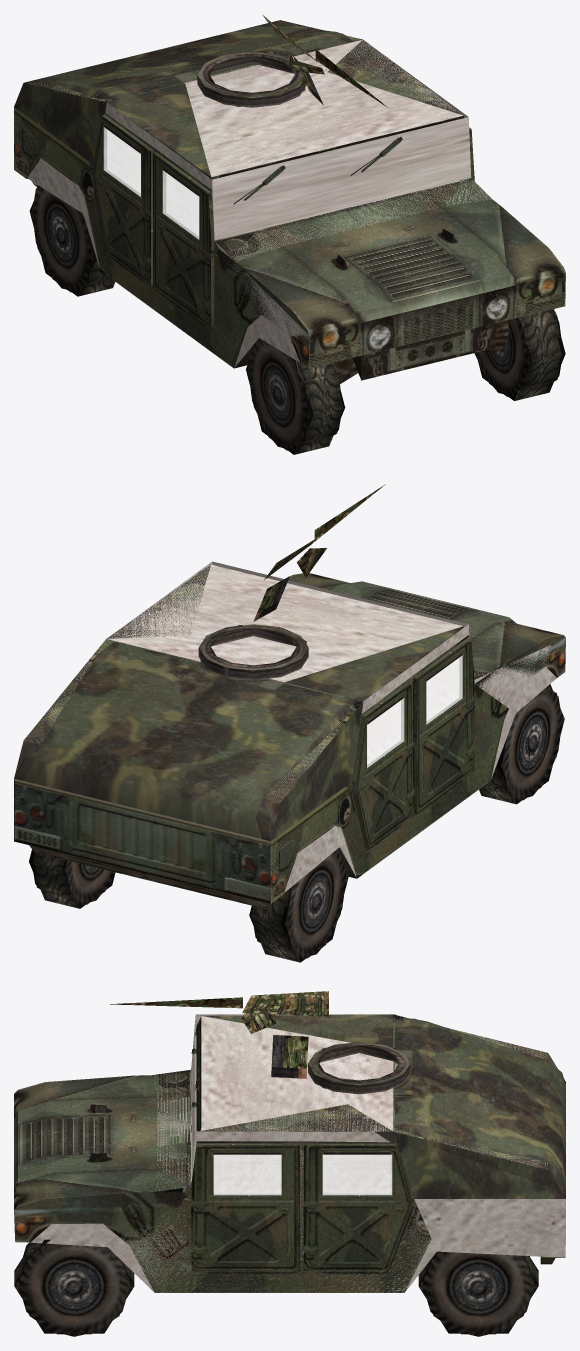
File: FHum50P.glb
3 renders of one model, top to bottom at view 1: azimuth 30°, elevation 25°; view 2: azimuth 150°, elevation 25°; view 3: azimuth 270°, elevation 25°, orthographic. The views are drawn at different scales.
Parts seen in each view (by area): view 1: 01 Mesh0, 01 Mesh0.003, 01 Mesh0.002, 01 Mesh1, 01 Mesh3, 01 Mesh0.001, 01 Mesh3.002, 01 Mesh3.001, 01 Mesh2, 01 Mesh2.001, 01 Mesh2.003; view 2: 01 Mesh0, 01 Mesh0.003, 01 Mesh0.002, 01 Mesh1, 01 Mesh3.002, 01 Mesh0.001, 01 Mesh3, 01 Mesh2, 01 Mesh2.001, 01 Mesh3.001, 01 Mesh2.003; view 3: 01 Mesh0, 01 Mesh0.003, 01 Mesh1, 01 Mesh0.002, 01 Mesh3, 01 Mesh3.001, 01 Mesh0.001, 01 Mesh2, 01 Mesh2.001, 01 Mesh2.003, 01 Mesh3.002, 01 Mesh1.003.
Part boxes in pixels (box(x1,y1,x2,y2)): 01 Mesh0: box(14, 24, 565, 383); 01 Mesh0.003: box(14, 22, 491, 367); 01 Mesh0.002: box(14, 20, 565, 376); 01 Mesh1: box(93, 114, 474, 329); 01 Mesh3: box(32, 186, 561, 450); 01 Mesh0.001: box(14, 24, 501, 367); 01 Mesh3.002: box(29, 199, 565, 454); 01 Mesh3.001: box(32, 185, 557, 450); 01 Mesh2: box(104, 127, 456, 239); 01 Mesh2.001: box(104, 127, 198, 238); 01 Mesh2.003: box(262, 14, 387, 107); 01 Mesh0: box(14, 573, 565, 908); 01 Mesh0.003: box(25, 561, 564, 903); 01 Mesh0.002: box(14, 565, 556, 890); 01 Mesh1: box(353, 637, 474, 848); 01 Mesh3.002: box(29, 684, 564, 962); 01 Mesh0.001: box(19, 625, 565, 903); 01 Mesh3: box(33, 691, 562, 955); 01 Mesh2: box(367, 655, 462, 767); 01 Mesh2.001: box(367, 656, 462, 767); 01 Mesh3.001: box(36, 691, 561, 958); 01 Mesh2.003: box(253, 484, 385, 621); 01 Mesh0: box(14, 1018, 565, 1292); 01 Mesh0.003: box(27, 1014, 565, 1292); 01 Mesh1: box(191, 1068, 412, 1270); 01 Mesh0.002: box(15, 1014, 565, 1292); 01 Mesh3: box(19, 1243, 533, 1336); 01 Mesh3.001: box(19, 1242, 533, 1334); 01 Mesh0.001: box(90, 1018, 563, 1292); 01 Mesh2: box(195, 1036, 391, 1194); 01 Mesh2.001: box(214, 1155, 391, 1194); 01 Mesh2.003: box(110, 991, 328, 1078); 01 Mesh3.002: box(14, 1239, 538, 1333); 01 Mesh1.003: box(16, 1240, 536, 1333).
Size of the model in its own units: 2.56 by 2.84 by 4.98.
9 materials, 6 textured.
